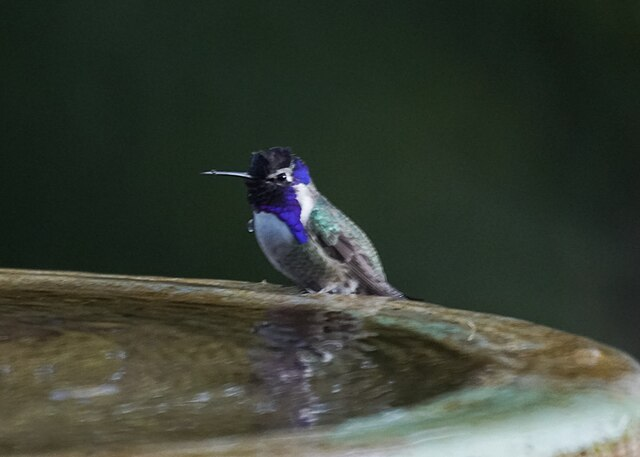calypte costae: (199, 144, 405, 297)
